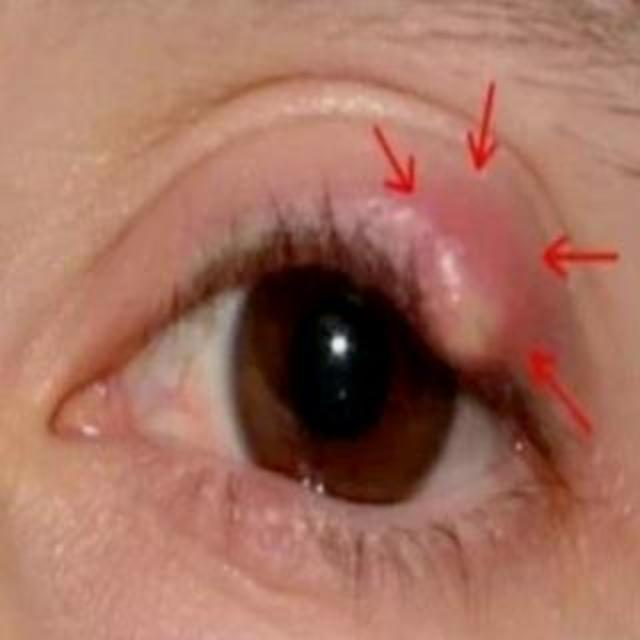Stye: (372, 172, 566, 404)
